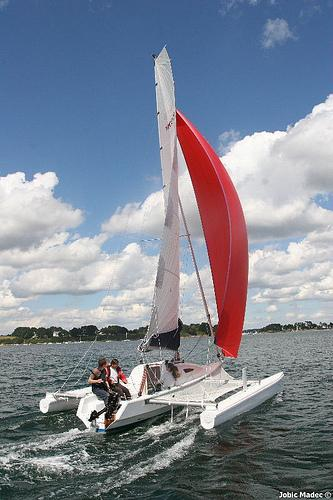Ship: (40, 41, 291, 435)
